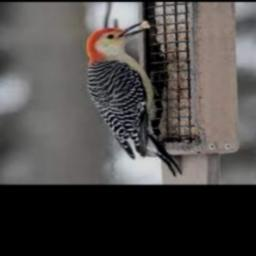Woodpecker: (87, 21, 182, 176)
